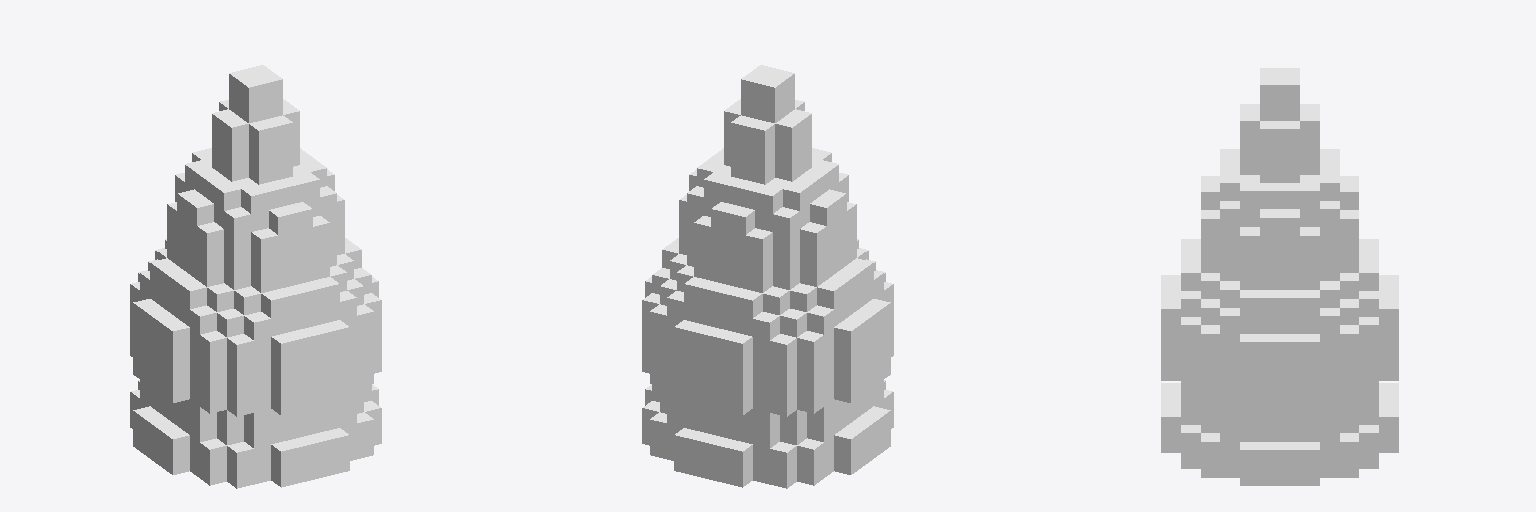
Rendered from case_house_robot.obj.
3 views of the same model, side by side, from view 1: azimuth 30°, elevation 25°; view 2: azimuth 150°, elevation 25°; view 3: azimuth 270°, elevation 25° (orthographic).
Size of the model in its own units: 12 by 20 by 12.